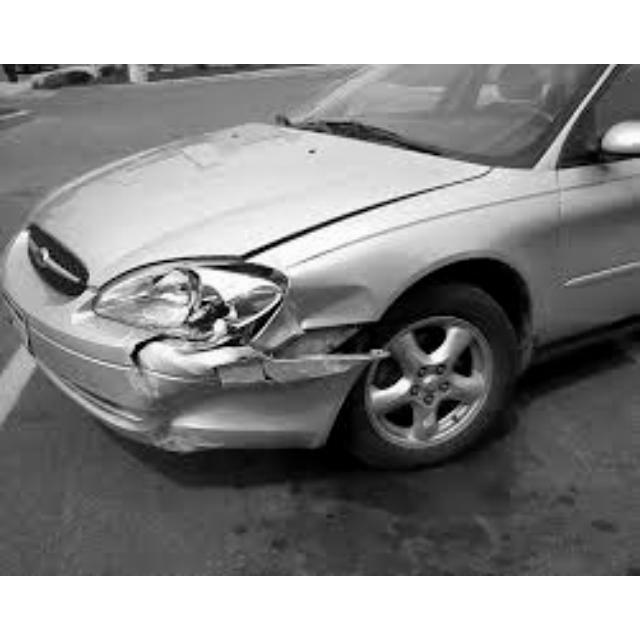Headlight-damage: (128, 265, 287, 341)
